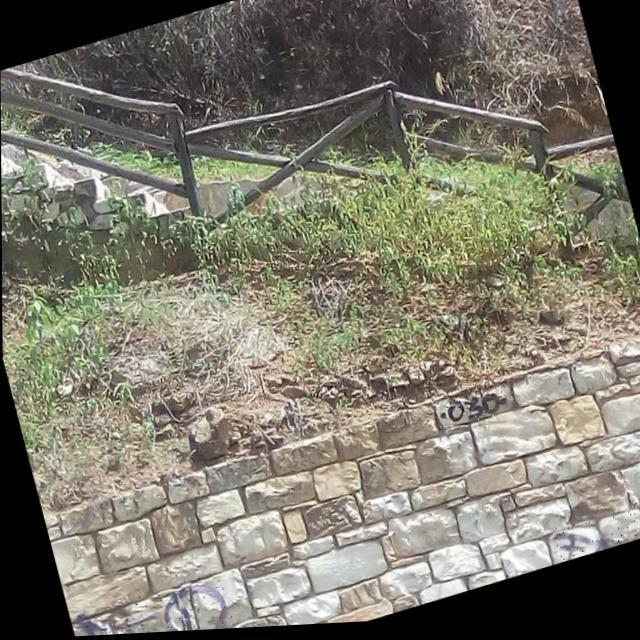-: (68, 568, 244, 638), (543, 503, 640, 570), (424, 383, 510, 439)
